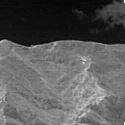Target: (77, 53, 90, 65)
